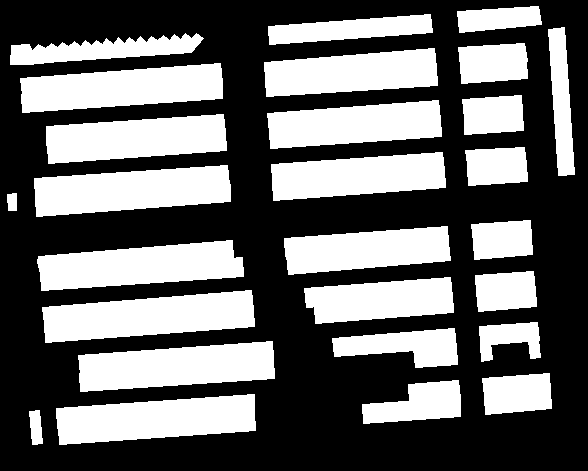parkingspot: (42, 290, 253, 324), (44, 309, 254, 342), (56, 394, 254, 428), (40, 257, 243, 290), (58, 411, 255, 444), (37, 240, 233, 273), (20, 63, 222, 95), (34, 165, 229, 198), (78, 341, 273, 374), (79, 358, 274, 391), (21, 80, 222, 112), (35, 184, 230, 216), (10, 33, 203, 64), (47, 131, 226, 163), (46, 114, 225, 145), (267, 100, 440, 132), (264, 48, 436, 80), (271, 152, 444, 183), (272, 169, 445, 200), (269, 117, 441, 148), (286, 242, 450, 274), (265, 66, 437, 96), (268, 14, 432, 44), (284, 226, 448, 256), (304, 277, 452, 307), (314, 294, 453, 323), (548, 27, 574, 175), (332, 328, 456, 356), (362, 397, 460, 423), (457, 6, 541, 32), (460, 59, 527, 83), (484, 390, 551, 414), (458, 43, 527, 66), (482, 373, 550, 396), (465, 147, 526, 170), (462, 95, 522, 118), (467, 162, 527, 185), (475, 271, 535, 294), (476, 288, 536, 311), (479, 322, 539, 345), (464, 111, 523, 134), (473, 236, 532, 259), (471, 220, 531, 242), (408, 380, 460, 402), (413, 345, 457, 367), (29, 410, 42, 444), (528, 339, 540, 358), (480, 343, 492, 361), (7, 193, 16, 210)
